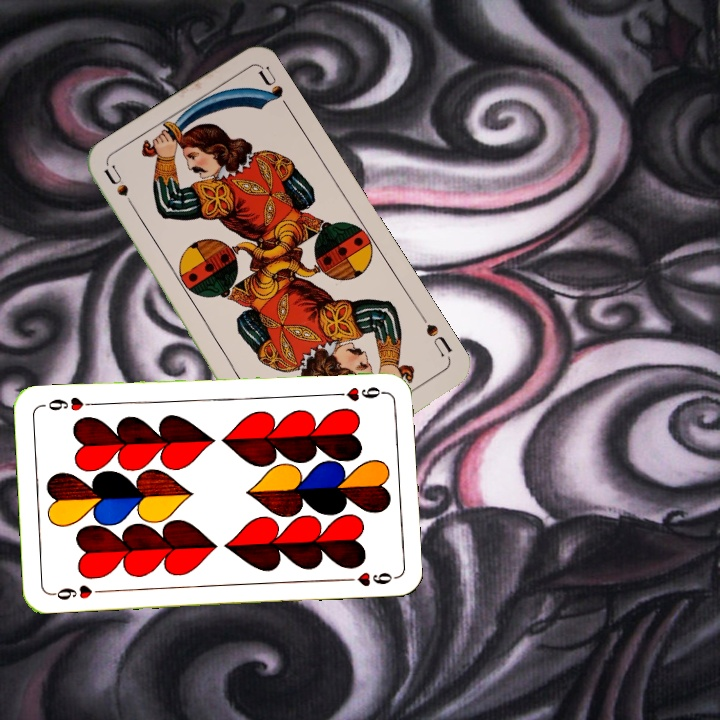H9: (47, 581, 106, 602), (328, 383, 387, 404)
SU: (100, 162, 141, 217), (422, 320, 456, 362)
